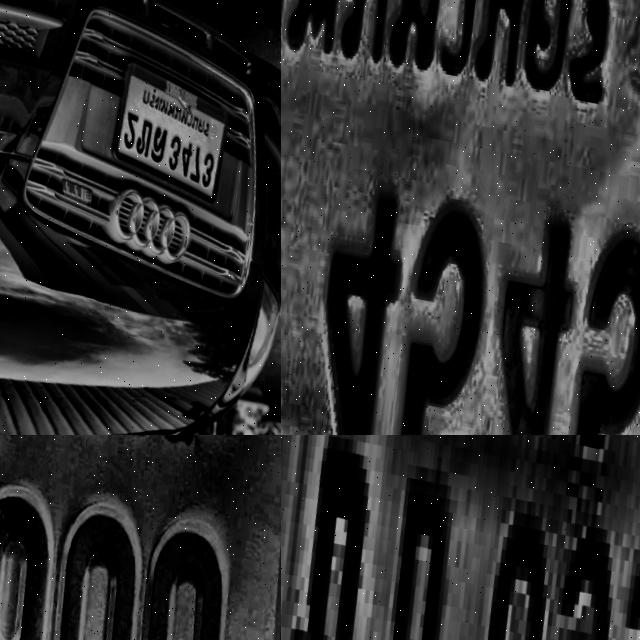license-plate: (281, 0, 640, 435), (281, 435, 640, 640), (0, 435, 281, 640), (95, 50, 237, 204)
